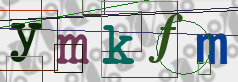f: (146, 12, 183, 65)
k: (101, 23, 136, 67)
m: (55, 32, 90, 67), (194, 32, 229, 67)
y: (8, 22, 44, 63)
